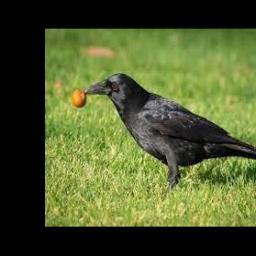Crow: (83, 72, 256, 189)
